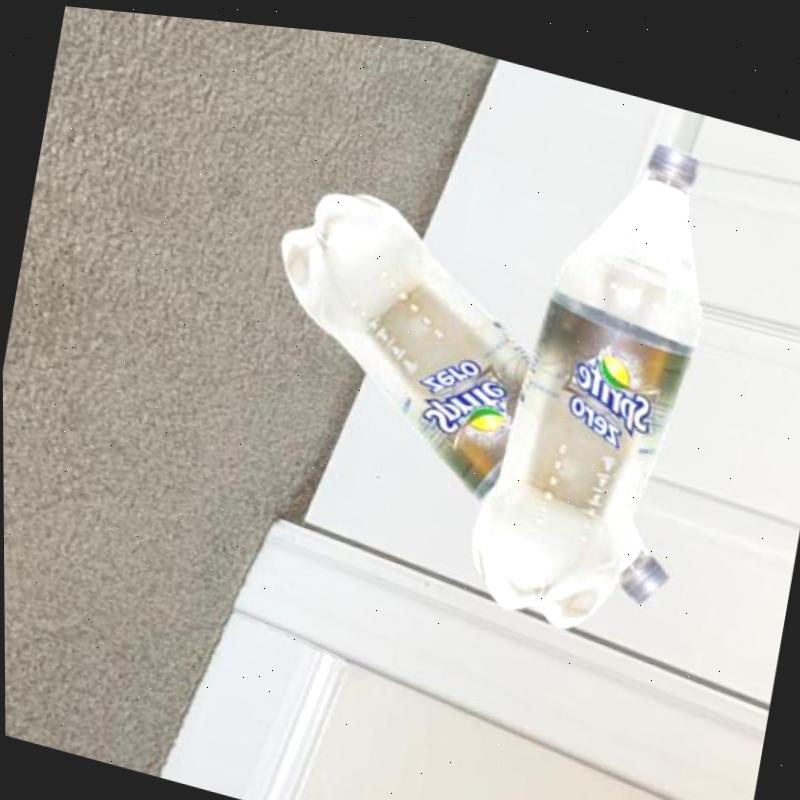botella: (233, 162, 723, 600), (451, 83, 738, 646)
